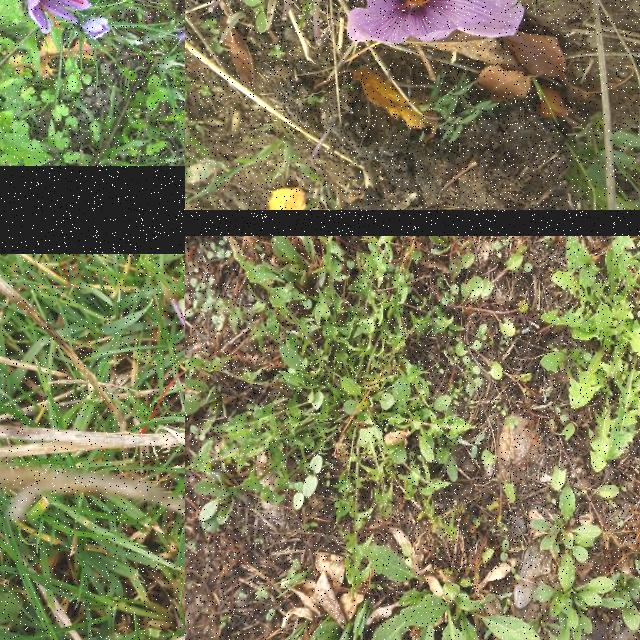flower: (347, 0, 525, 43), (82, 16, 111, 40)
overlap: (0, 0, 116, 34)
